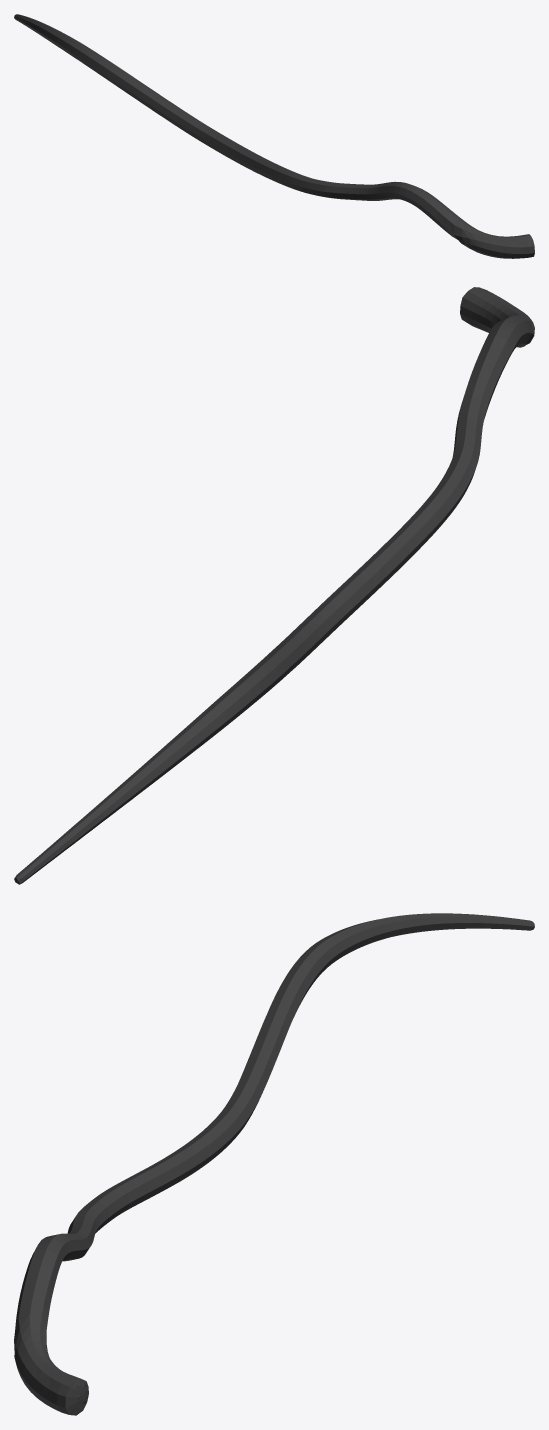
Rendered from Infraorbital_nn.glb.
3 views of the same model, one above another, from view 1: azimuth 30°, elevation 25°; view 2: azimuth 150°, elevation 25°; view 3: azimuth 330°, elevation 25° (orthographic). The views are drawn at different scales.
Visible parts, largest first — view 1: Infraorbital_nn; view 2: Infraorbital_nn; view 3: Infraorbital_nn.
Boxes of the visible parts, box(x1,y1,x2,y2) form: Infraorbital_nn: box(14, 14, 534, 258); Infraorbital_nn: box(14, 287, 534, 884); Infraorbital_nn: box(14, 913, 534, 1415).
Size of the model in its own units: 0.1528 by 0.0669 by 0.6594.
1 material, 1 textured.
